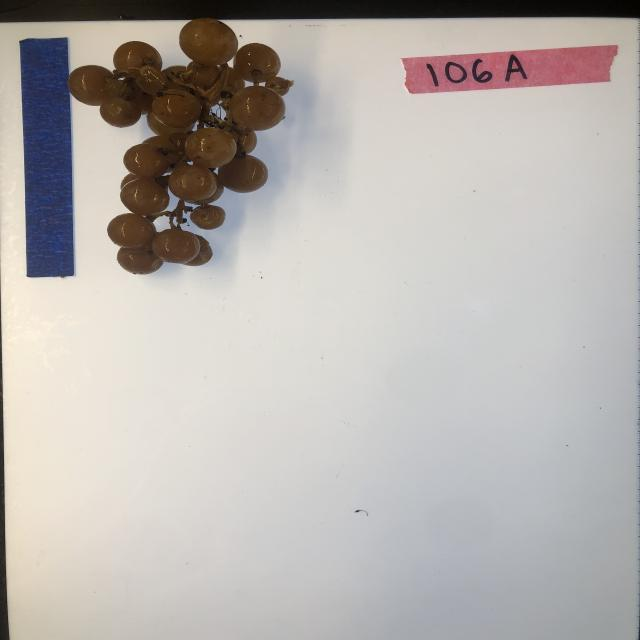grape_cluster: (68, 17, 293, 278)
index: (399, 42, 618, 96)
measure_label: (18, 35, 77, 279)
